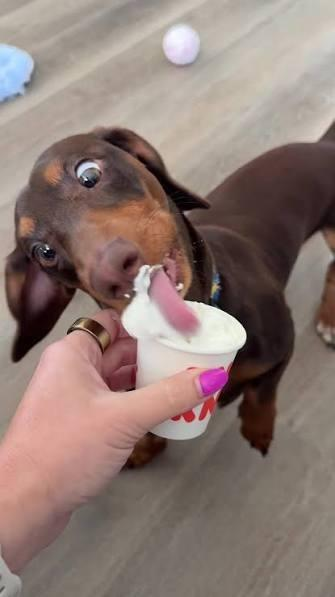adult_dog: (2, 113, 335, 472)
